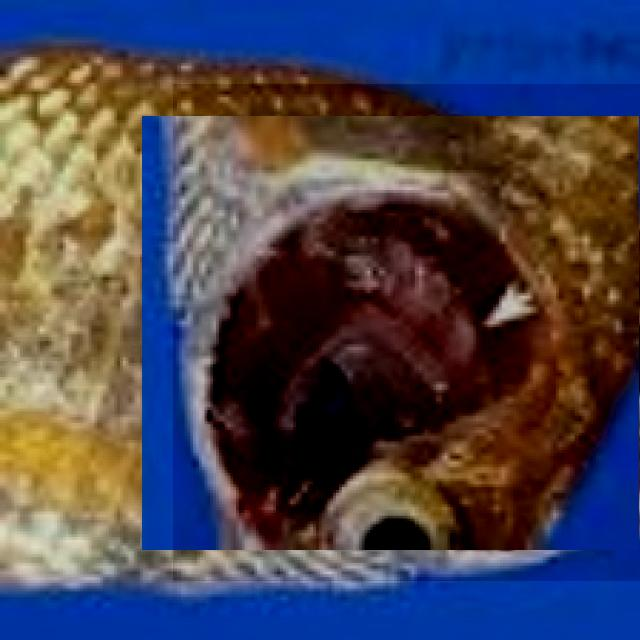Gill Disease: (173, 84, 640, 581)
